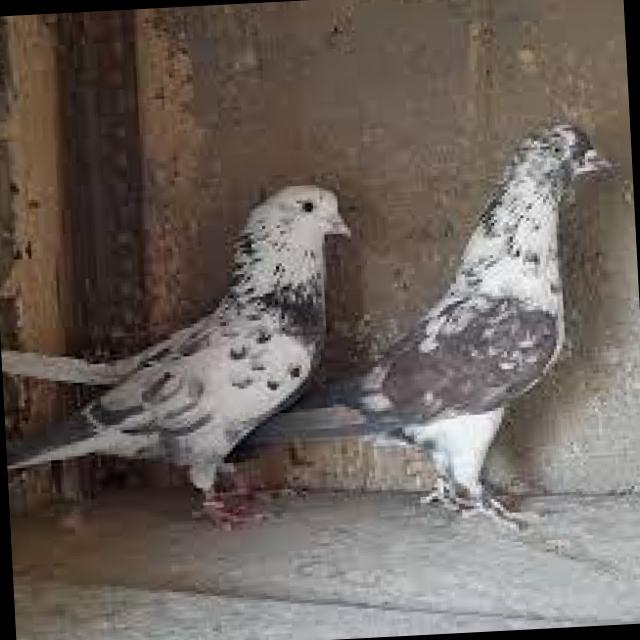bird: (270, 110, 630, 538), (0, 160, 372, 545)
